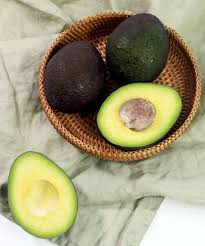avocado: (8, 150, 79, 239), (98, 83, 182, 149)
